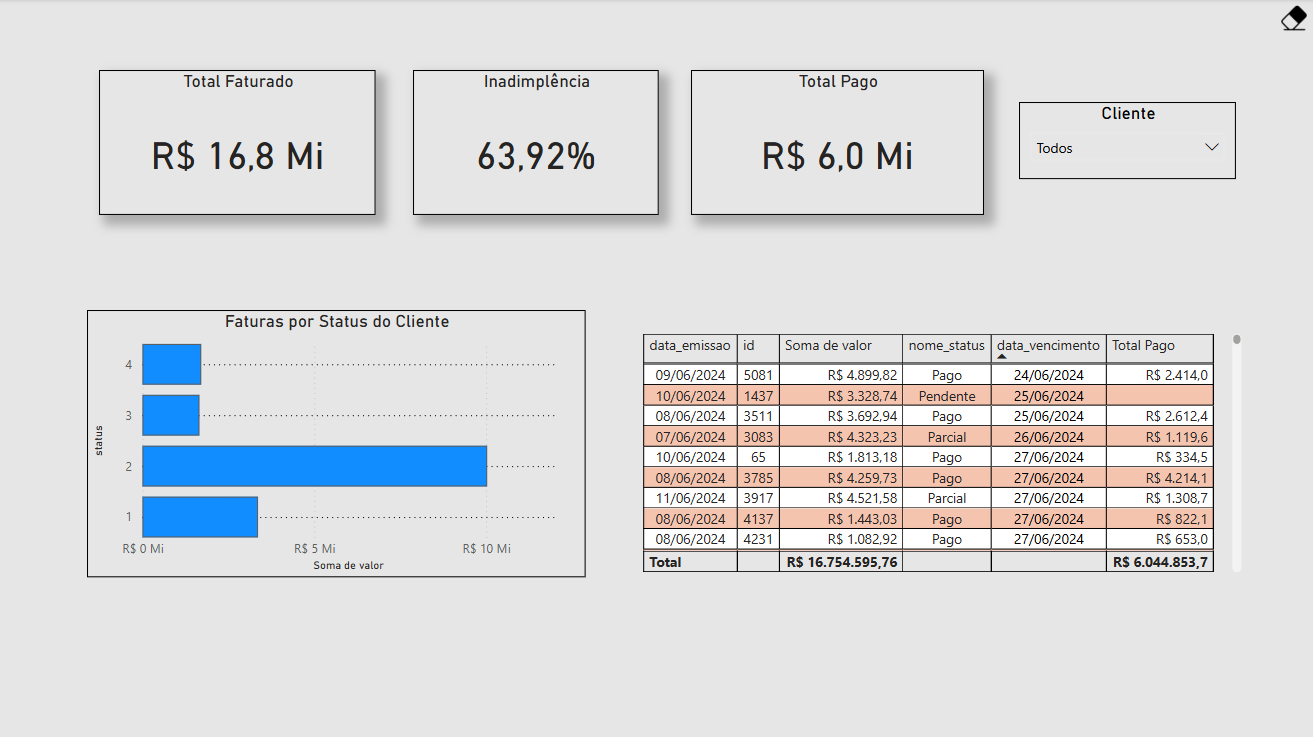

The page's visual inventory and layout, read from the dashboard file:
{"tool":"powerbi","page":{"name":"Detalhes do Cliente","canvas":[1280,720],"ordinal":1},"visuals":[{"type":"card","title":"Total Faturado","fields":{"Values":["Calendario.Total Faturado"]},"box":[97.7,69.1,269.2,140.5],"z":0},{"type":"card","title":"Total Pago","fields":{"Values":["Calendario.Total Pago"]},"box":[673.3,69.1,284.6,140.5],"z":1},{"type":"card","title":"Inadimplência","fields":{"Values":["Calendario.Inadimplencia"]},"box":[402.3,69.1,239.3,140.5],"z":2},{"type":"barChart","title":"Faturas por Status do Cliente","fields":{"Category":["faturas.status"],"Y":["Sum(faturas.valor)"]},"box":[85.9,302.1,485,260.2],"z":3},{"type":"tableEx","title":" ","fields":{"Values":["faturas.data_emissao","faturas.id","Sum(faturas.valor)","status_pagamento.nome_status","faturas.data_vencimento","Calendario.Total Pago"]},"box":[620.4,301.7,593.2,260.7],"z":4},{"type":"slicer","title":"Cliente","fields":{"Values":["clientes.nome"]},"box":[992.4,99.9,211.2,75.2],"z":5},{"type":"image","box":[1240.1,0,39.9,37.2],"z":6}]}

Visuals, with their boxes in screenshot pixels (x1, y1, x2, y2), scaled from the page's 1280x720 canvas onto the 1313x737 screenshot:
"Total Faturado" card: detection(100, 71, 376, 215)
"Total Pago" card: detection(691, 71, 983, 215)
"Inadimplência" card: detection(413, 71, 658, 215)
"Faturas por Status do Cliente" barChart: detection(88, 309, 586, 576)
" " tableEx: detection(636, 309, 1245, 576)
"Cliente" slicer: detection(1018, 102, 1235, 179)
image: detection(1272, 0, 1312, 38)
